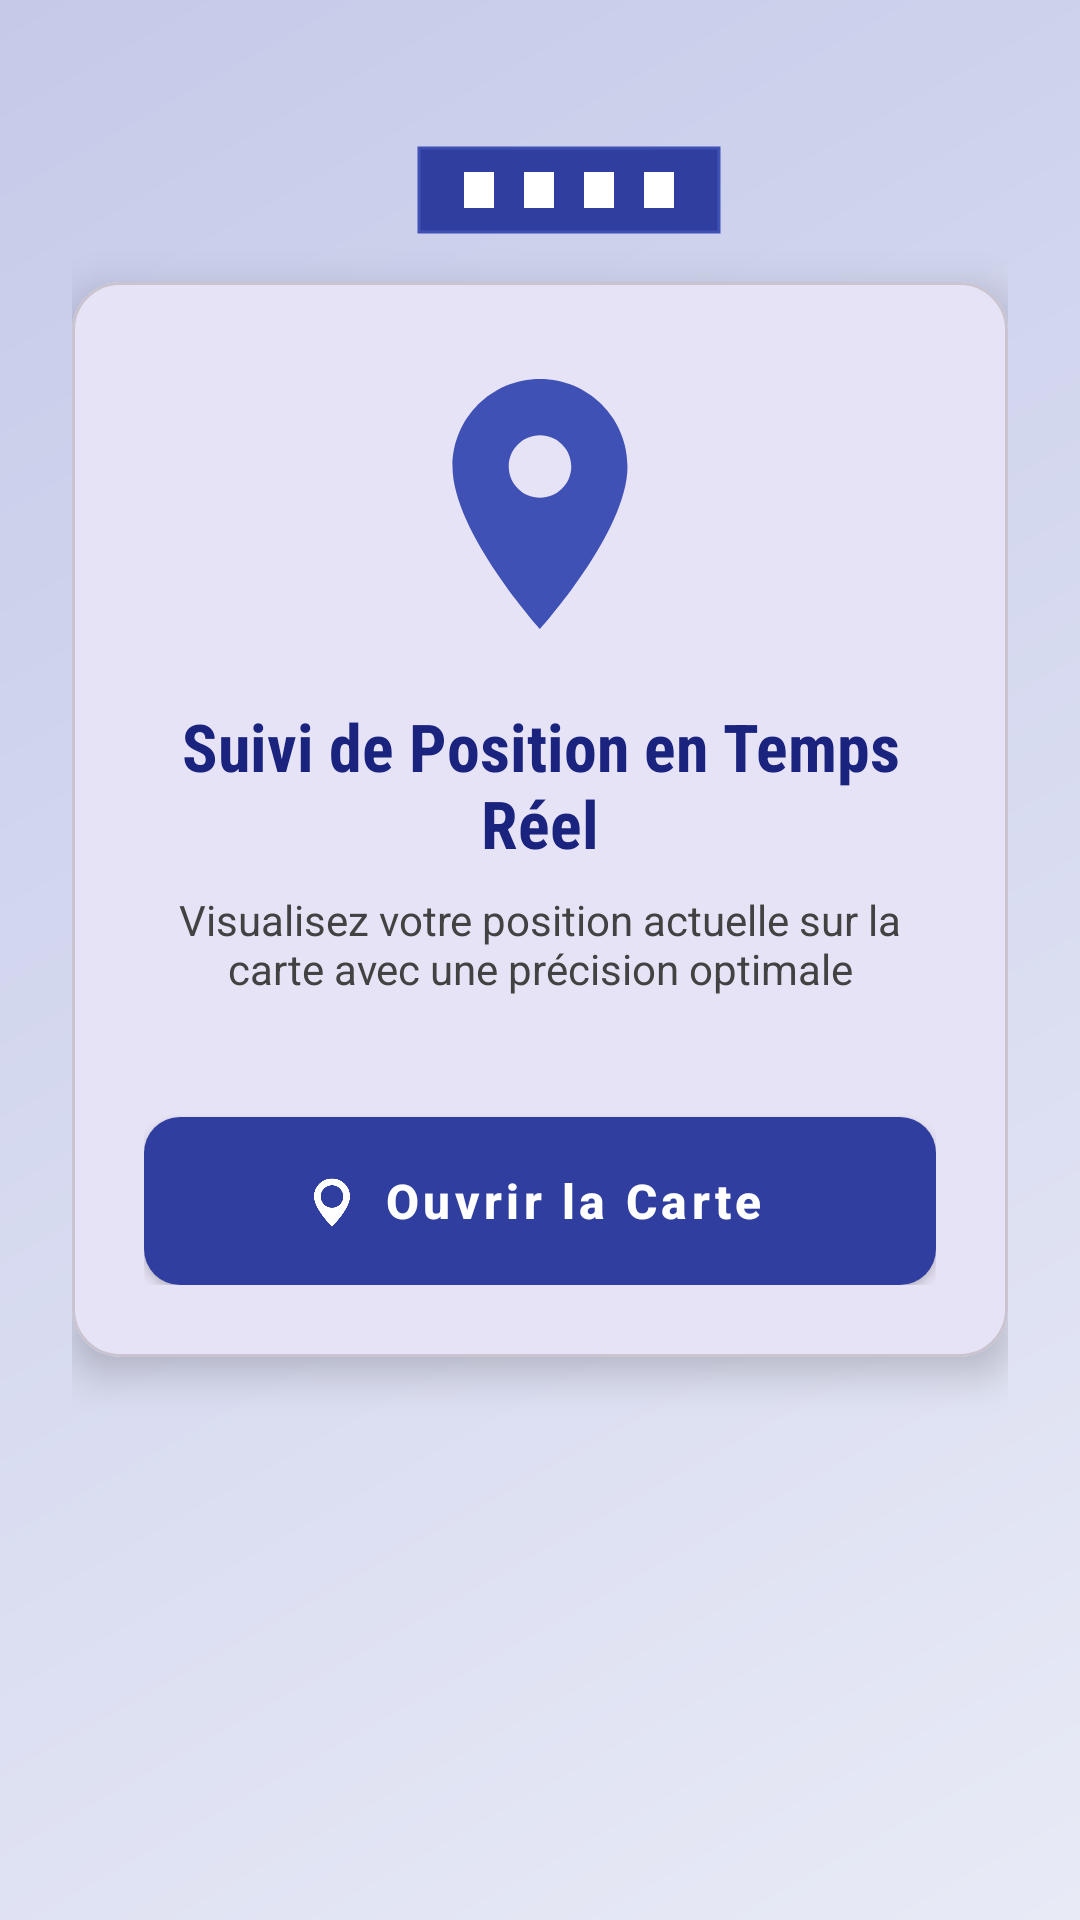

Locate icon controls on the screen. Image size 1080w x 1920h, boxes as (x1, y1, x2, y2).
location pin: (452, 379, 628, 629)
